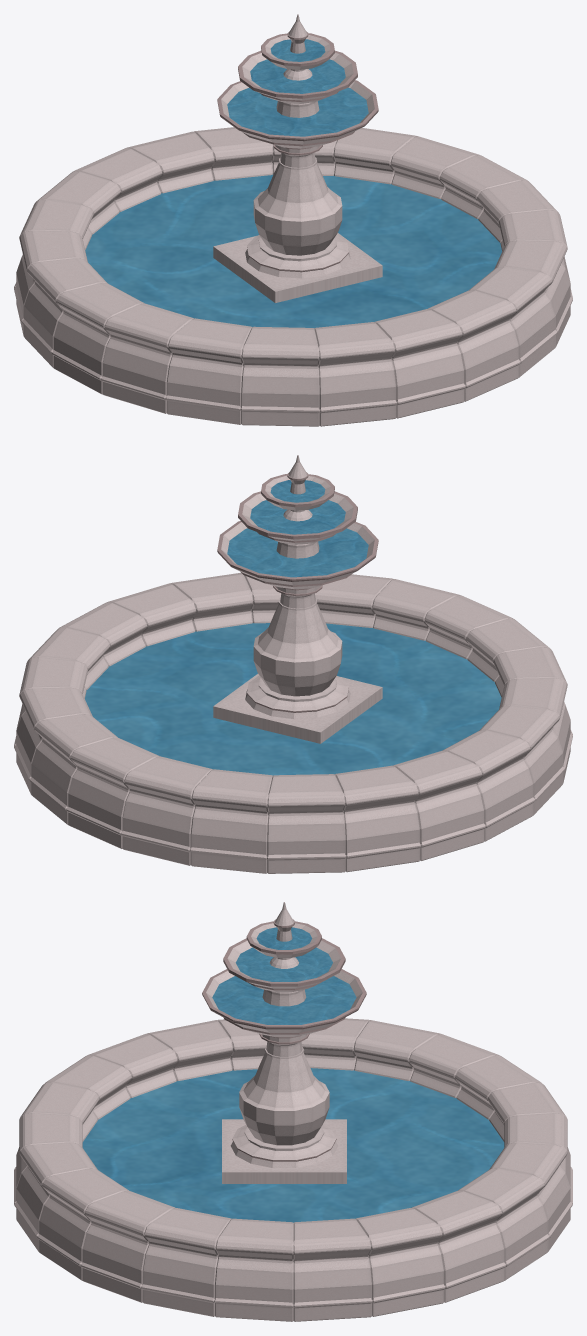
Rendered from Fountain.fbx.
The picture shows the model from 3 angles, top to bottom: view 1: azimuth 30°, elevation 25°; view 2: azimuth 150°, elevation 25°; view 3: azimuth 270°, elevation 25°; orthographic projection.
Parts seen in each view (by area): view 1: Brunnen; view 2: Brunnen; view 3: Brunnen.
Part boxes in pixels (left/top/right/bottom): Brunnen: left=14, top=14, right=572, bottom=426; Brunnen: left=14, top=455, right=572, bottom=873; Brunnen: left=14, top=902, right=572, bottom=1321.
Size of the model in its own units: 382 by 225 by 378.
